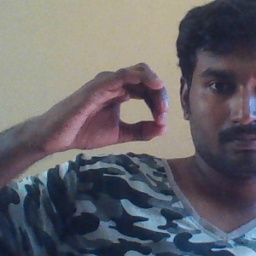O: (46, 59, 173, 151)
